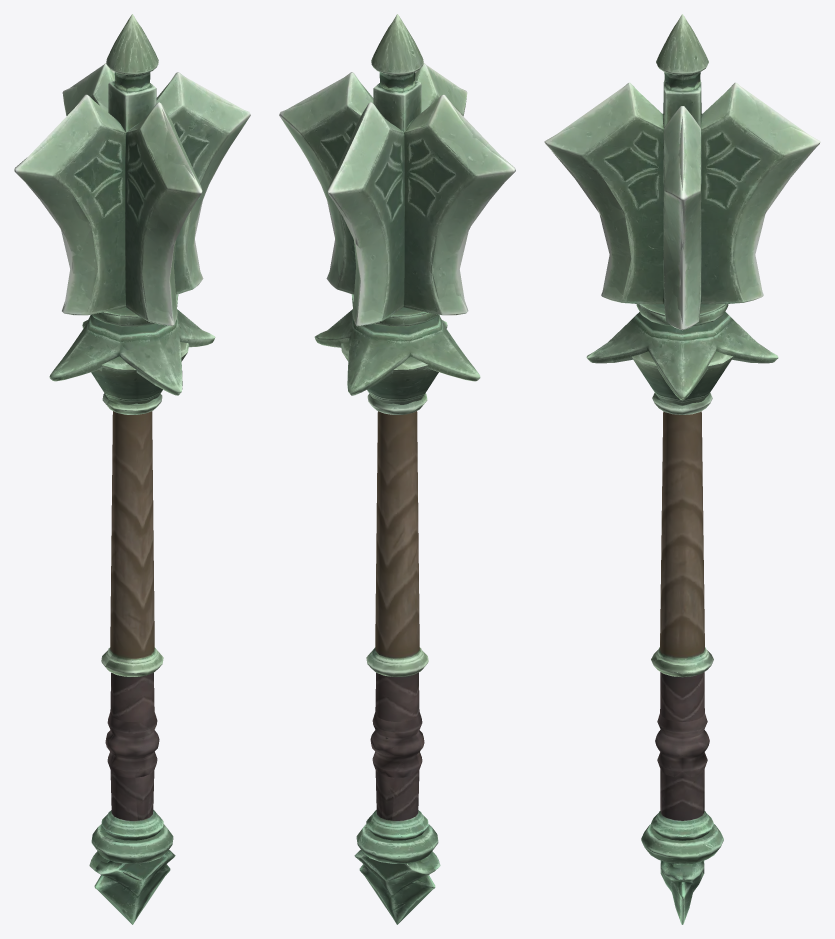
3 views of the same model, side by side, from view 1: azimuth 30°, elevation 25°; view 2: azimuth 150°, elevation 25°; view 3: azimuth 270°, elevation 25° (orthographic).
Visible parts, largest first — view 1: SM_Mace_Adamant_1H_01_LOD0; view 2: SM_Mace_Adamant_1H_01_LOD0; view 3: SM_Mace_Adamant_1H_01_LOD0.
Part boxes in pixels (bbox=[...]): SM_Mace_Adamant_1H_01_LOD0: bbox=[14, 14, 250, 924]; SM_Mace_Adamant_1H_01_LOD0: bbox=[279, 14, 515, 924]; SM_Mace_Adamant_1H_01_LOD0: bbox=[544, 14, 820, 924].
Size of the model in its own units: 0.2642 by 0.9759 by 0.2684.
1 material, 1 textured.
